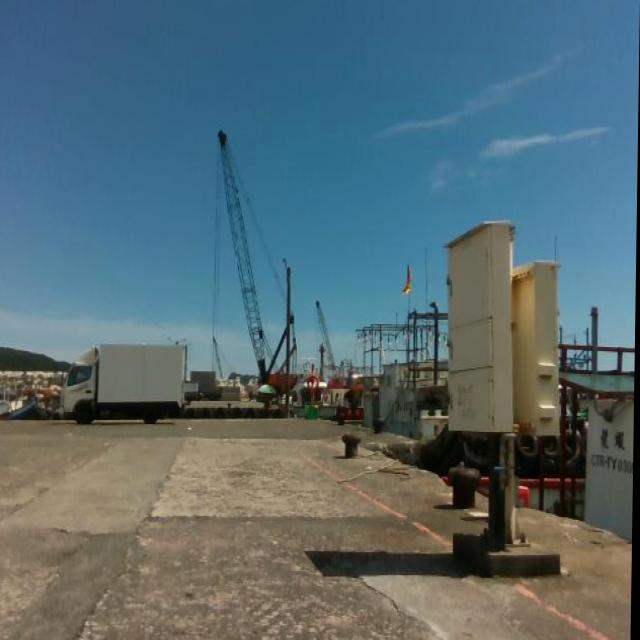pollute: (188, 424, 194, 429)
